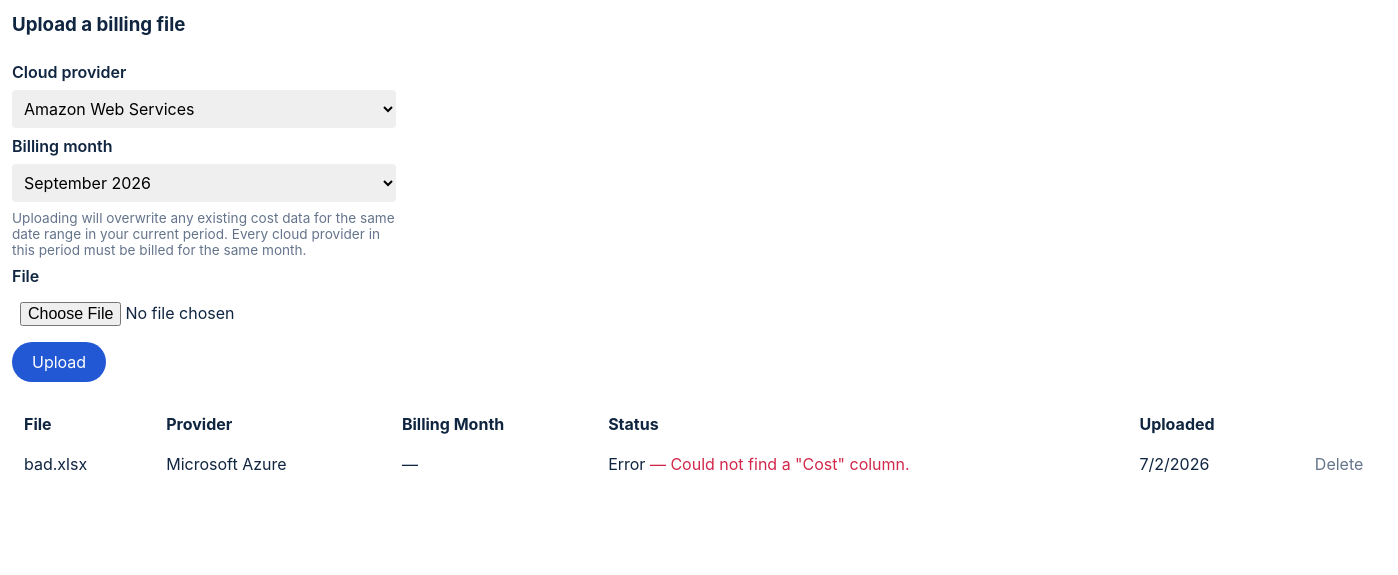
Scenario: UploadedFilesList › surfaces an error if deleting the file fails
The width and height of the screenshot is (1398, 575).
Expected: the text "bad.xlsx" is shown, [12,442,154,486]
Click the button "Delete".
click(1339, 464)  # box [1301,450,1377,478]
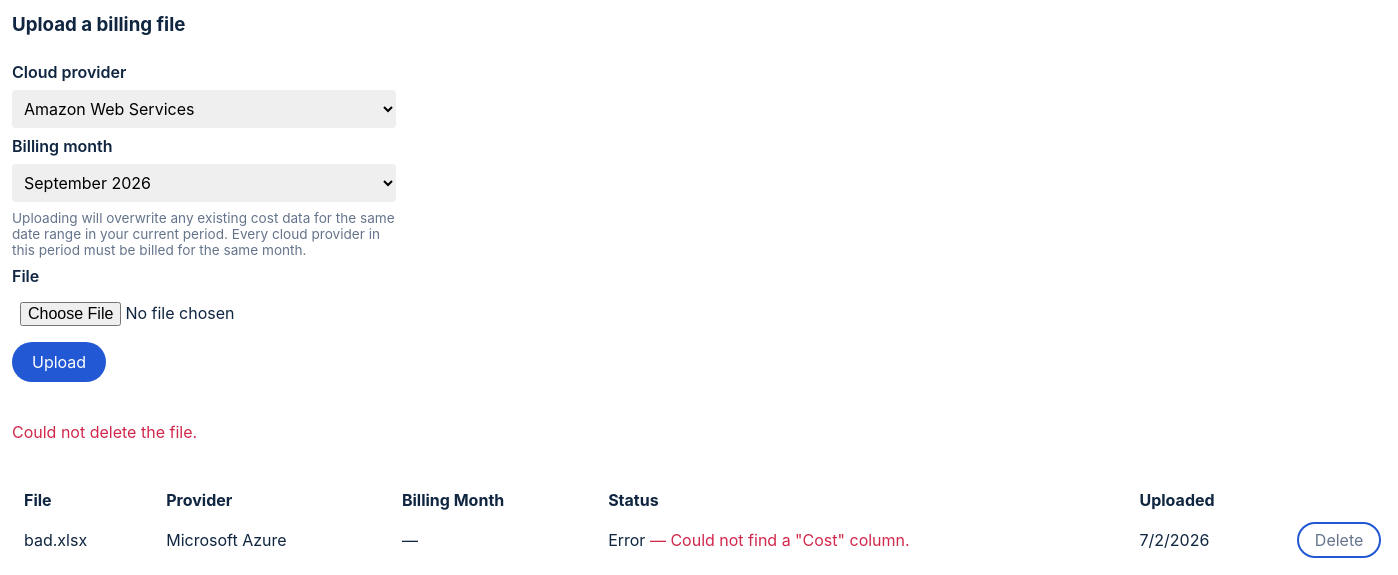
Now the message reads "Could not delete the file.", box [12,422,197,442]
